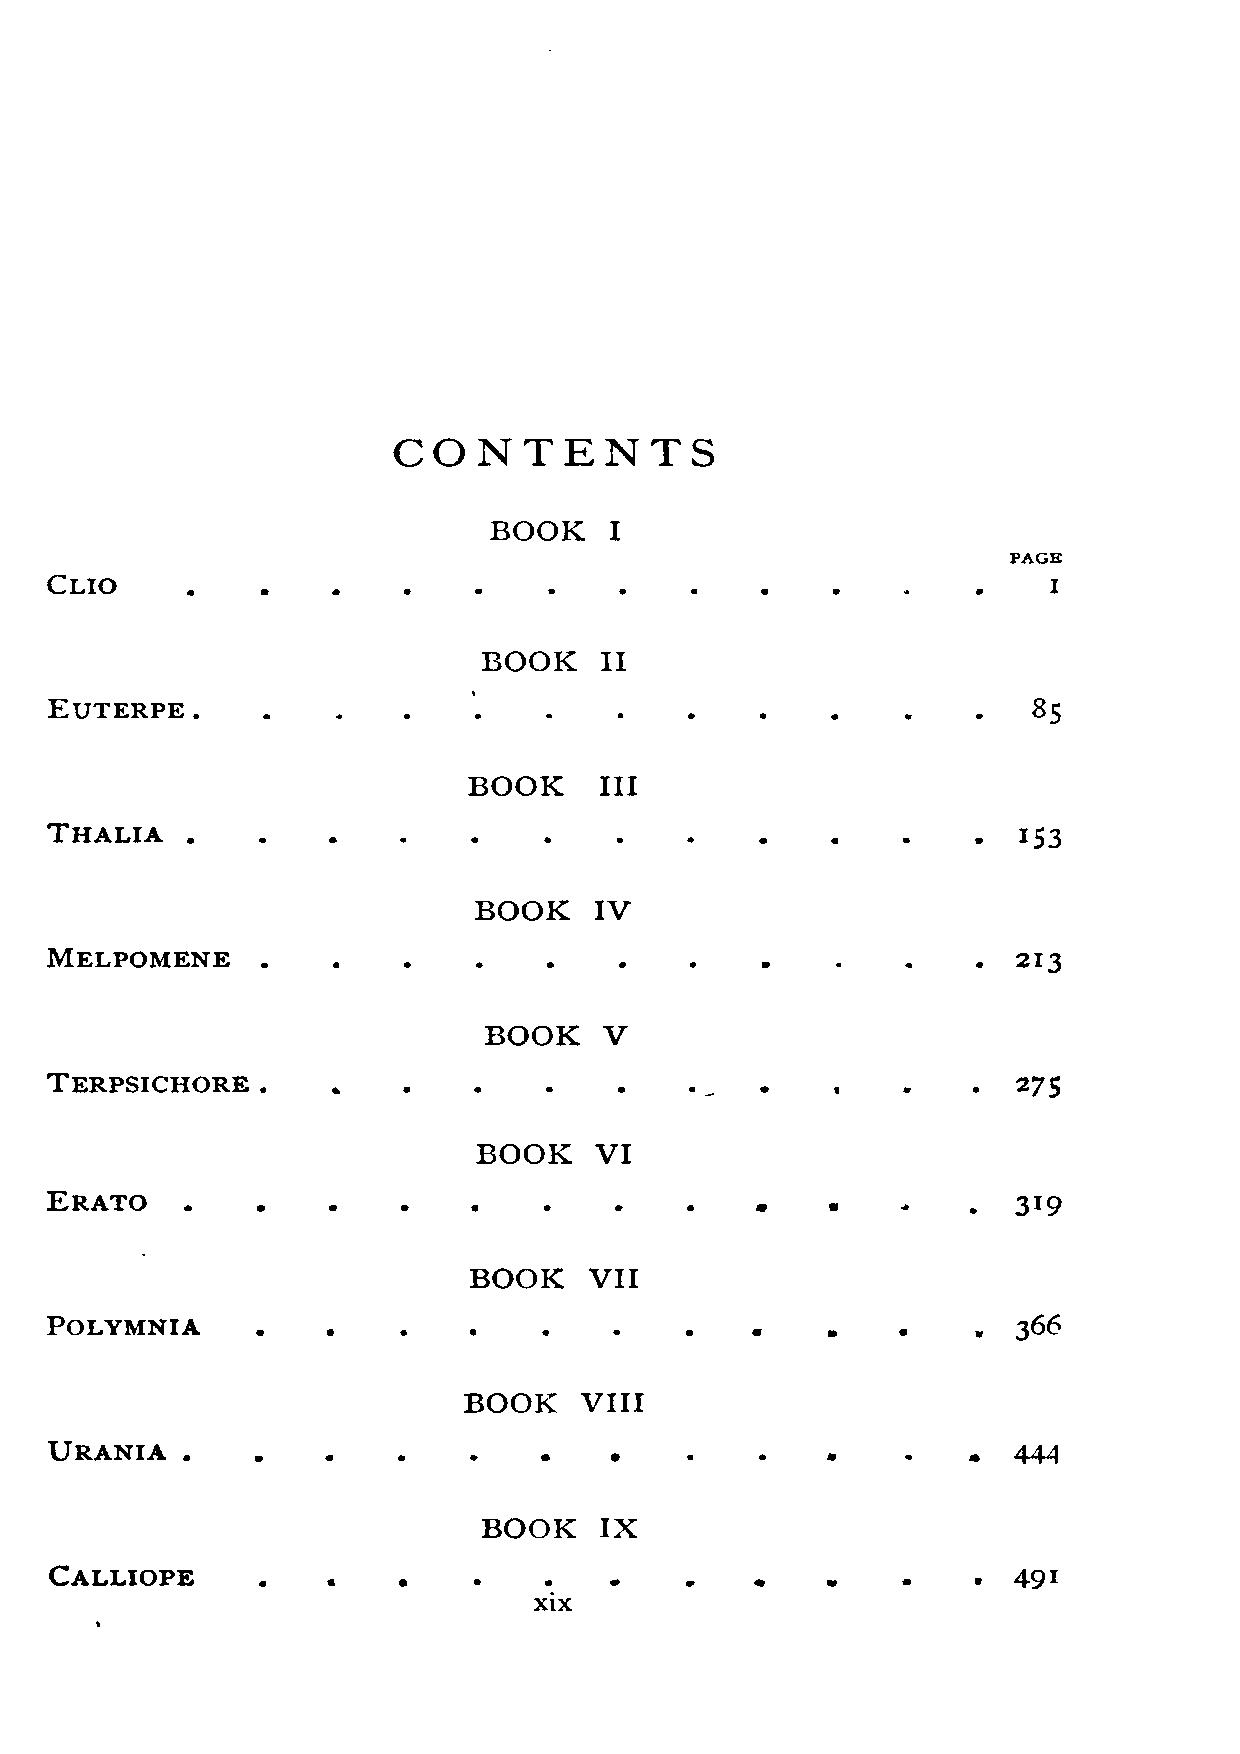TOC_chapter: (35, 942, 231, 972), (464, 770, 641, 803), (44, 1070, 254, 1096), (468, 895, 633, 925), (476, 1514, 641, 1543), (464, 1266, 644, 1292), (459, 1390, 647, 1416), (478, 646, 629, 676), (40, 691, 185, 723), (472, 1139, 635, 1168), (484, 515, 623, 545), (48, 1312, 205, 1338), (48, 1563, 208, 1586), (43, 1436, 172, 1464), (482, 1023, 629, 1047), (46, 819, 165, 847), (43, 1185, 156, 1213), (43, 570, 121, 600)
TOC_pagenumber: (1016, 817, 1066, 858), (1013, 945, 1063, 974), (1015, 1312, 1062, 1343), (1011, 1192, 1063, 1217), (1012, 1440, 1062, 1465), (1013, 1072, 1063, 1096), (1031, 694, 1066, 727), (1015, 1565, 1062, 1588), (1045, 572, 1066, 592)
chapter: (388, 433, 722, 474)
content_pagenumber: (530, 1590, 576, 1613)
